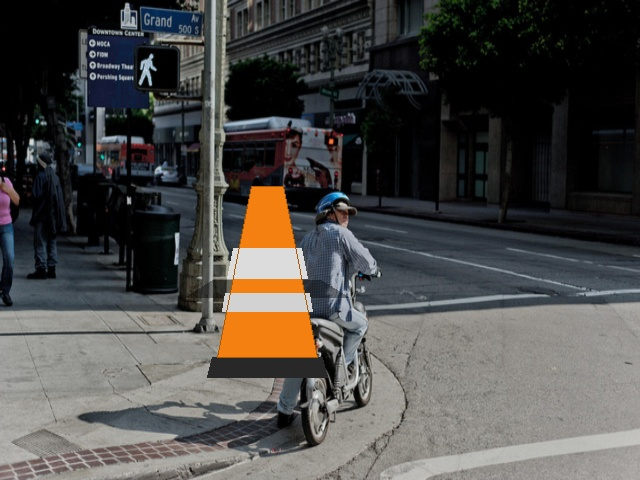traffic-cone: (207, 186, 327, 377)
